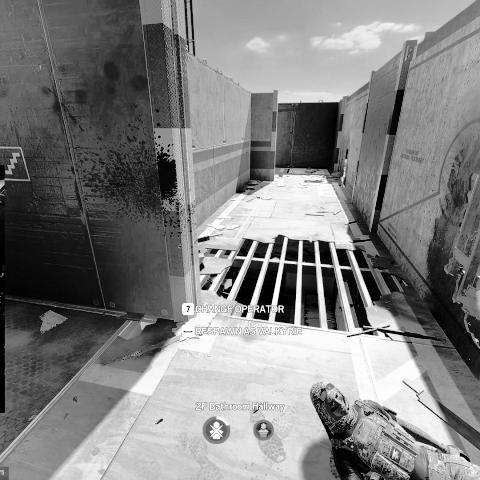Character: (308, 380, 475, 480), (233, 264, 247, 296)
Head: (311, 382, 351, 425)
